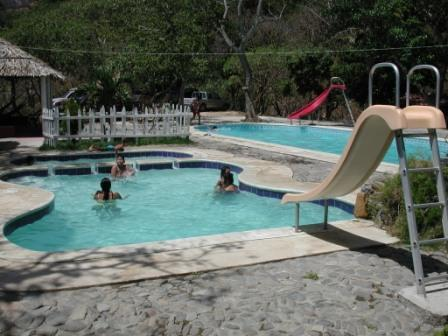human: (98, 177, 126, 202), (214, 166, 234, 193), (109, 156, 128, 176)
